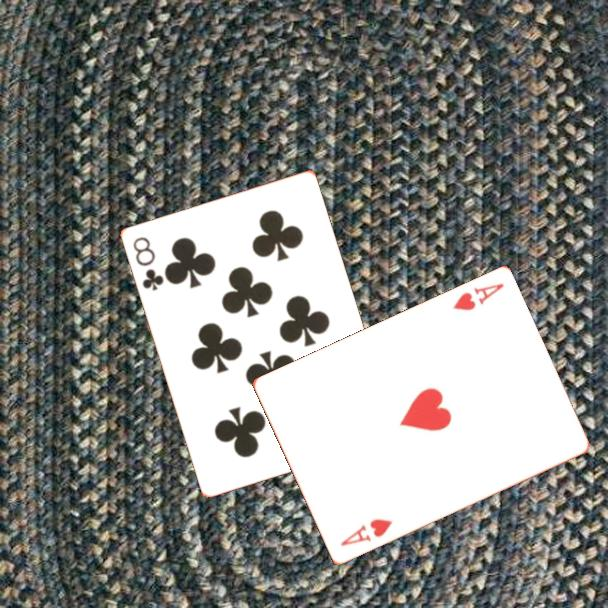c08: (129, 233, 166, 293)
h01: (337, 516, 395, 550), (449, 280, 507, 314)
